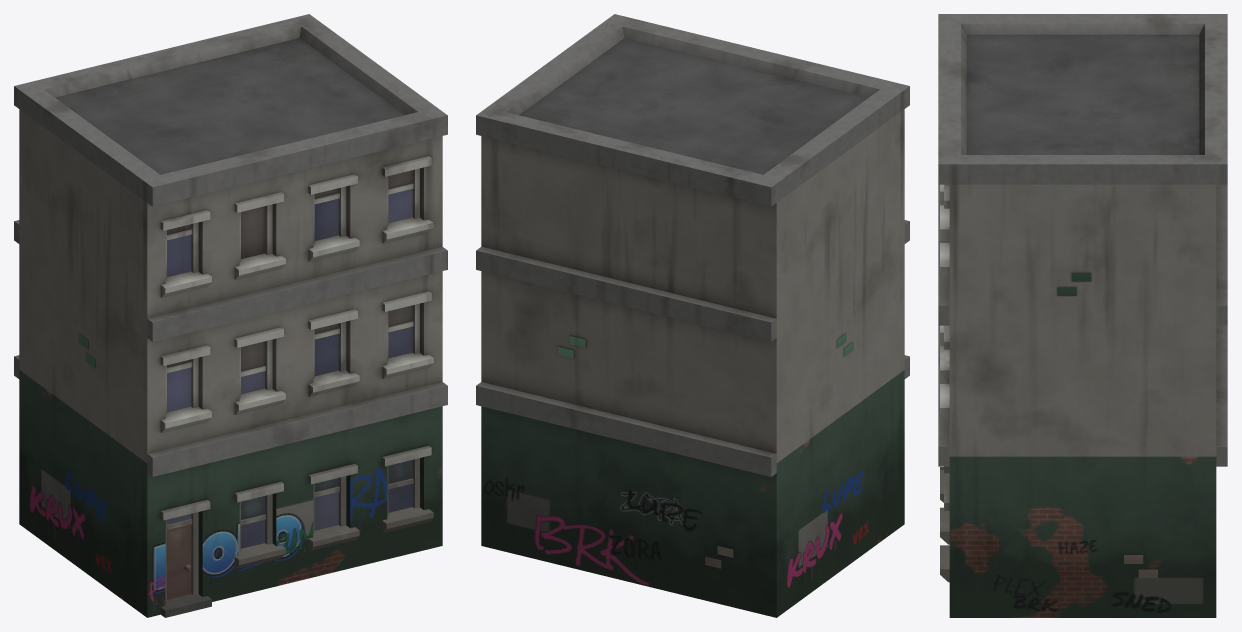
File: building_D.glb
3 renders of one model, left to right at view 1: azimuth 30°, elevation 25°; view 2: azimuth 150°, elevation 25°; view 3: azimuth 270°, elevation 25°, orthographic. The views are drawn at different scales.
Parts seen in each view (by area): view 1: building_D_withoutBase; view 2: building_D_withoutBase; view 3: building_D_withoutBase.
Part boxes in pixels (x1,y1,x2,y2): building_D_withoutBase: (14,14,447,617); building_D_withoutBase: (476,14,909,617); building_D_withoutBase: (938,14,1227,617).
Size of the model in its own units: 1.61 by 2.25 by 1.3.
Materials: 2 (2 with a texture image).
